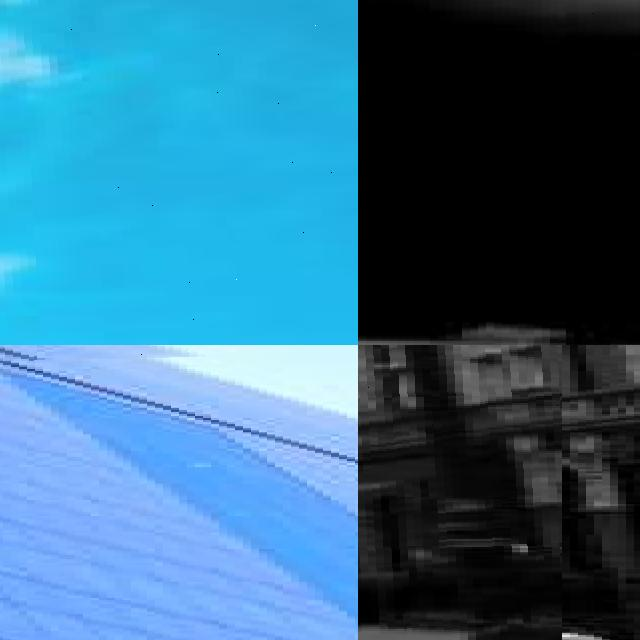street light: (0, 0, 358, 345), (358, 345, 562, 640), (566, 0, 640, 345)
